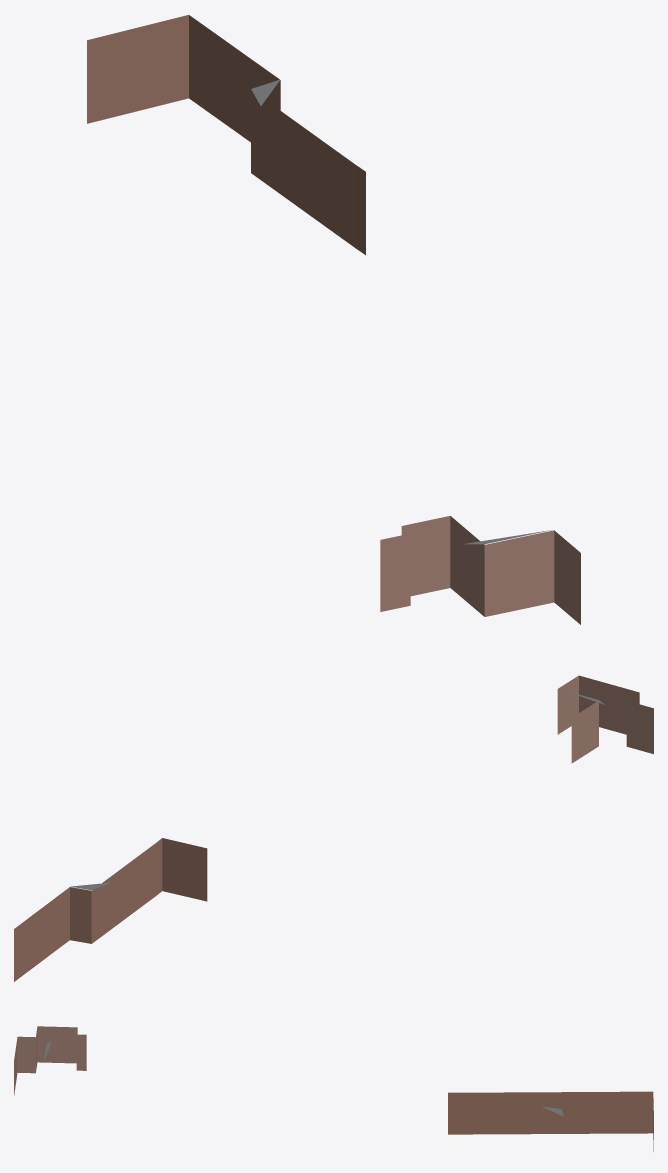
Rendered from c_1626_17837_buildings_residential.glb.
The picture shows the model from 3 angles, top to bottom: view 1: azimuth 30°, elevation 25°; view 2: azimuth 150°, elevation 25°; view 3: azimuth 270°, elevation 25°; orthographic projection. The views are drawn at different scales.
Visible parts, largest first — view 1: geometry_0; view 2: geometry_0; view 3: geometry_0.
Boxes of the visible parts, x1,y1,x2,y2 form: geometry_0: (87,15,580,624); geometry_0: (14,675,653,981); geometry_0: (14,1026,653,1151).
Bounding box in the file's own units: 53.86 × 11.08 × 153.
